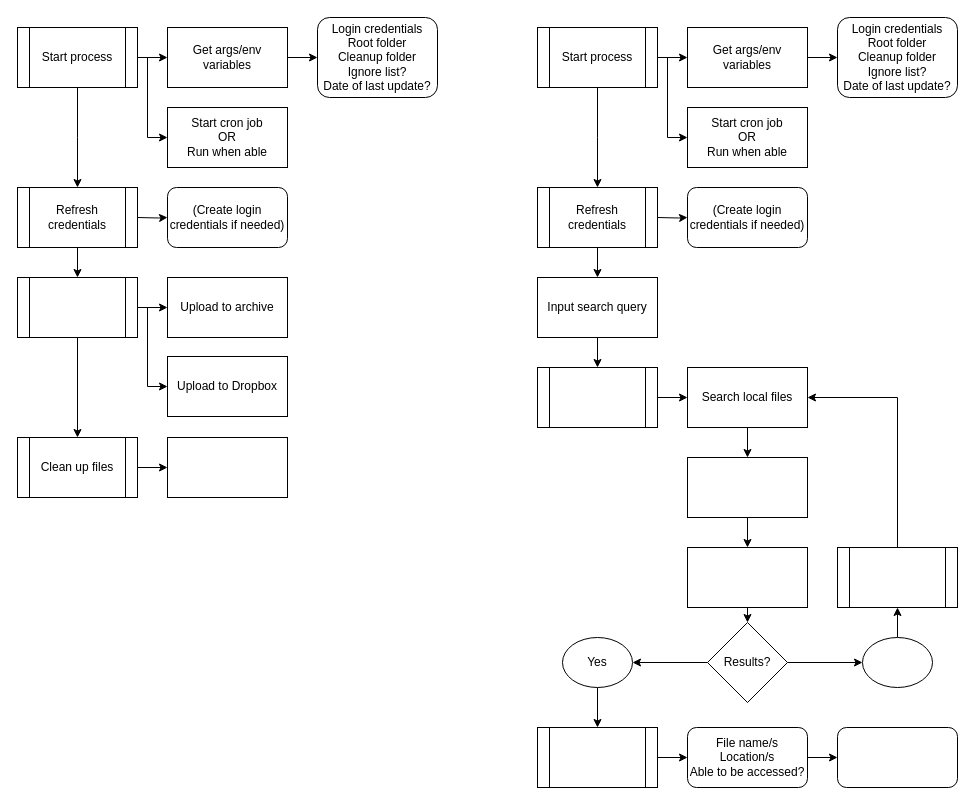
The diagram is 975 pixels wide and 805 high, and some of its shapes have lost their labels. Each missing label, with the centre of its shape:
Add translations to query: (x=897, y=577)
Display results: (x=597, y=757)
No: (x=897, y=662)
Option to download: (x=897, y=757)
Search archive: (x=747, y=577)
Search Dropbox: (x=747, y=487)
Search files: (x=597, y=397)
Send local files to Recycle Bin: (x=227, y=467)
Upload files: (x=77, y=307)
